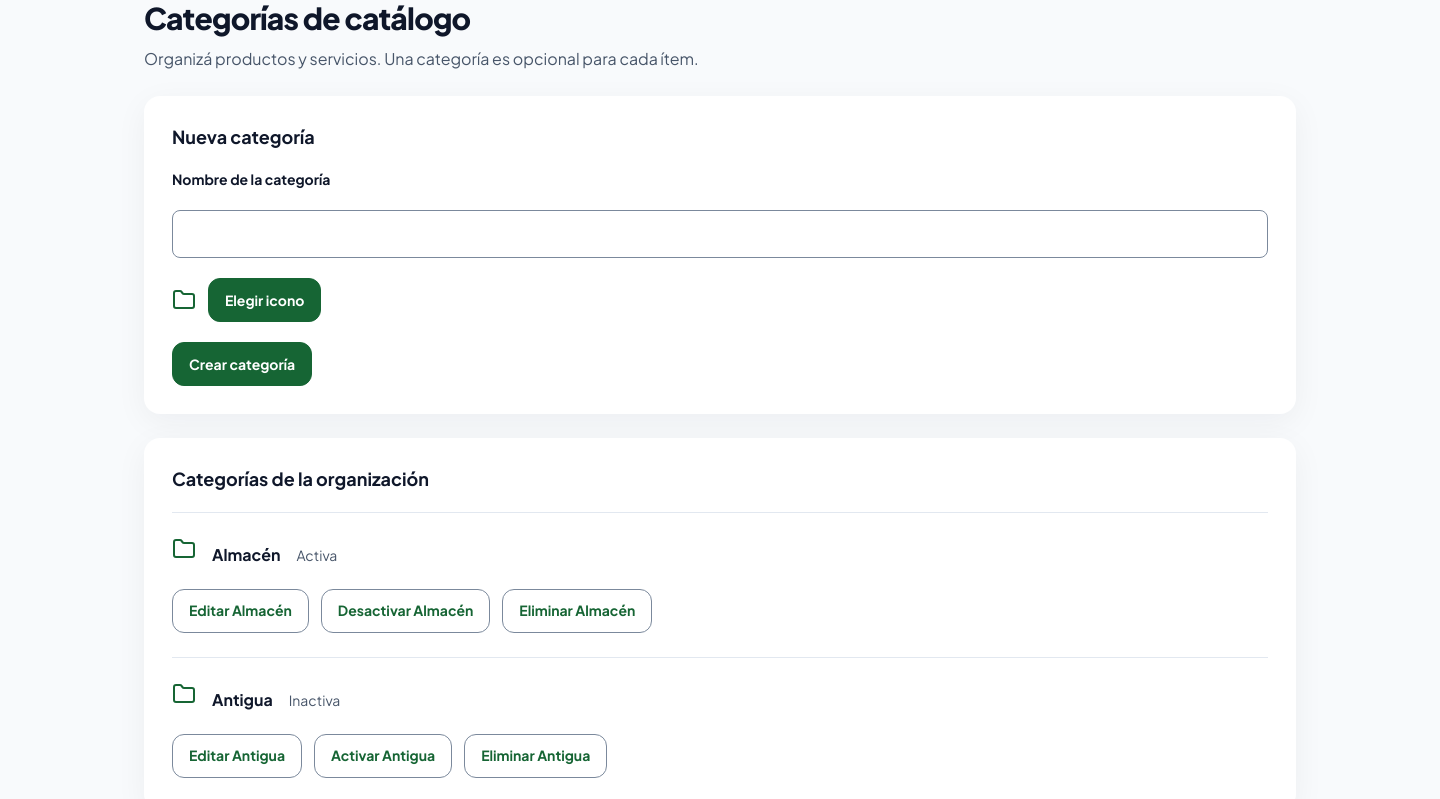
T236I: edits the selected category using its version and reloads after success
Click the button "Editar Almacén".
click(240, 611)  # box [172, 589, 309, 633]
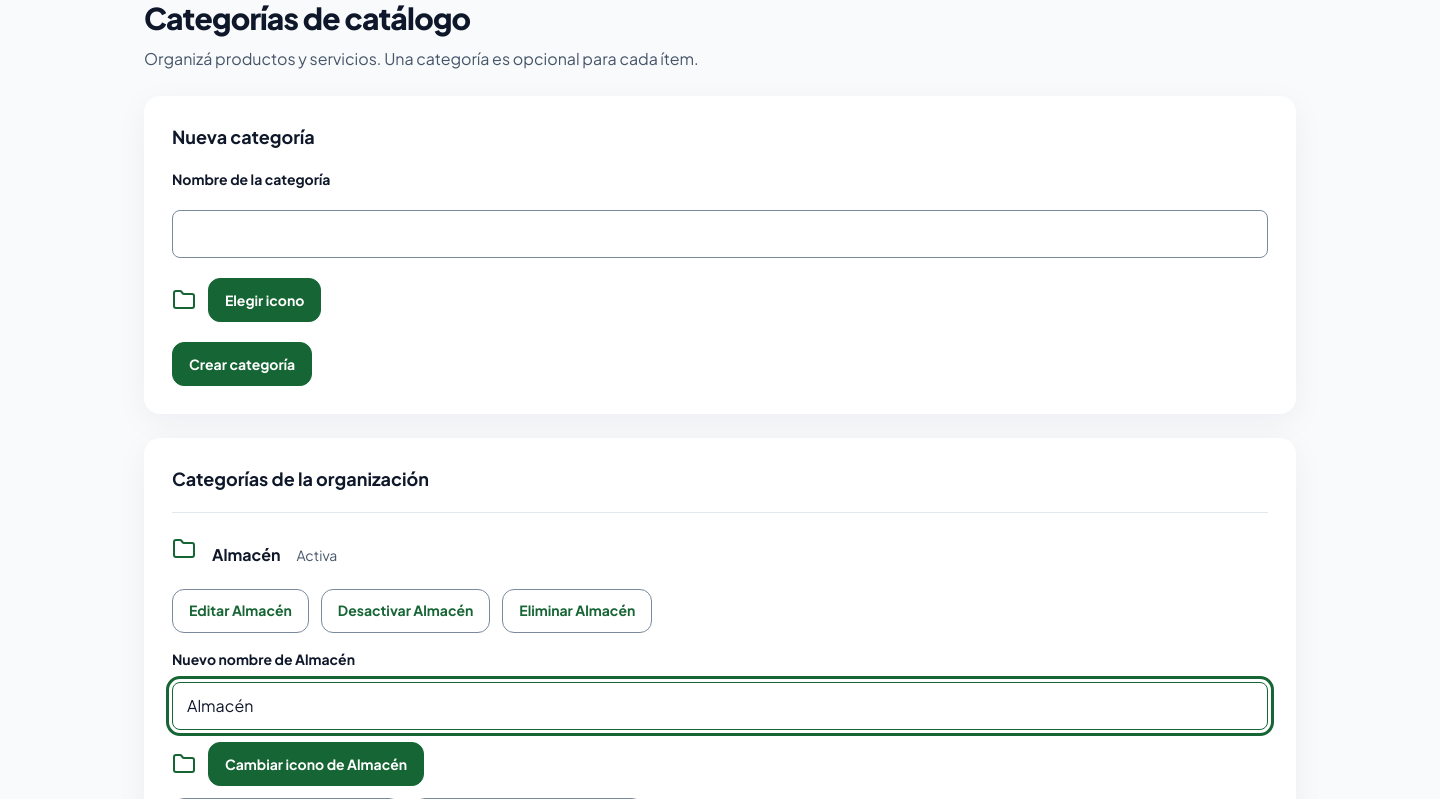
Replace the text in the field labelled "Nuevo nombre de Almacén" with "Bebidas" at x=720, y=706, box [172, 682, 1268, 730]
(page scrolled)
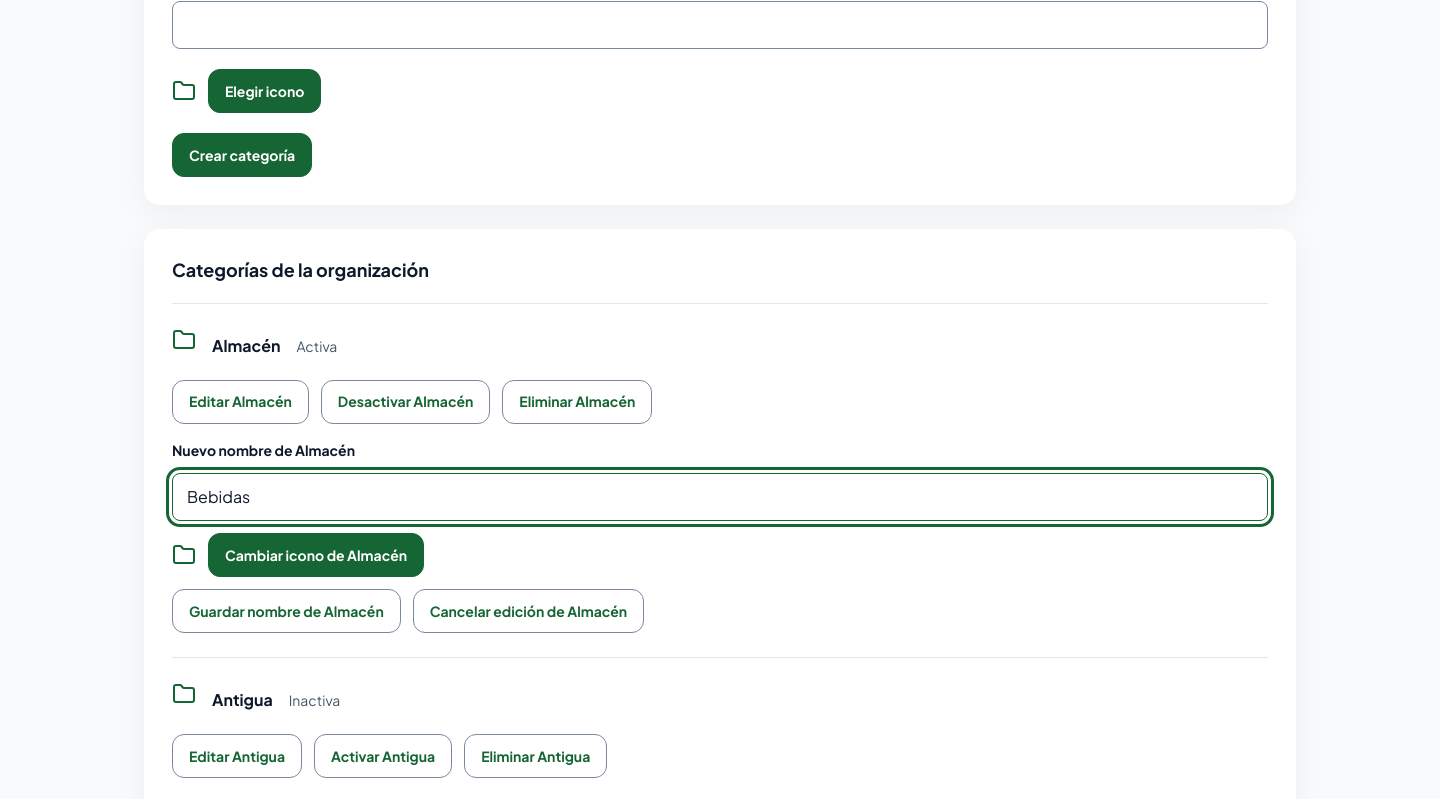
Click the button "Guardar nombre de Almacén".
click(286, 611)  # box [172, 589, 401, 633]
(page scrolled)
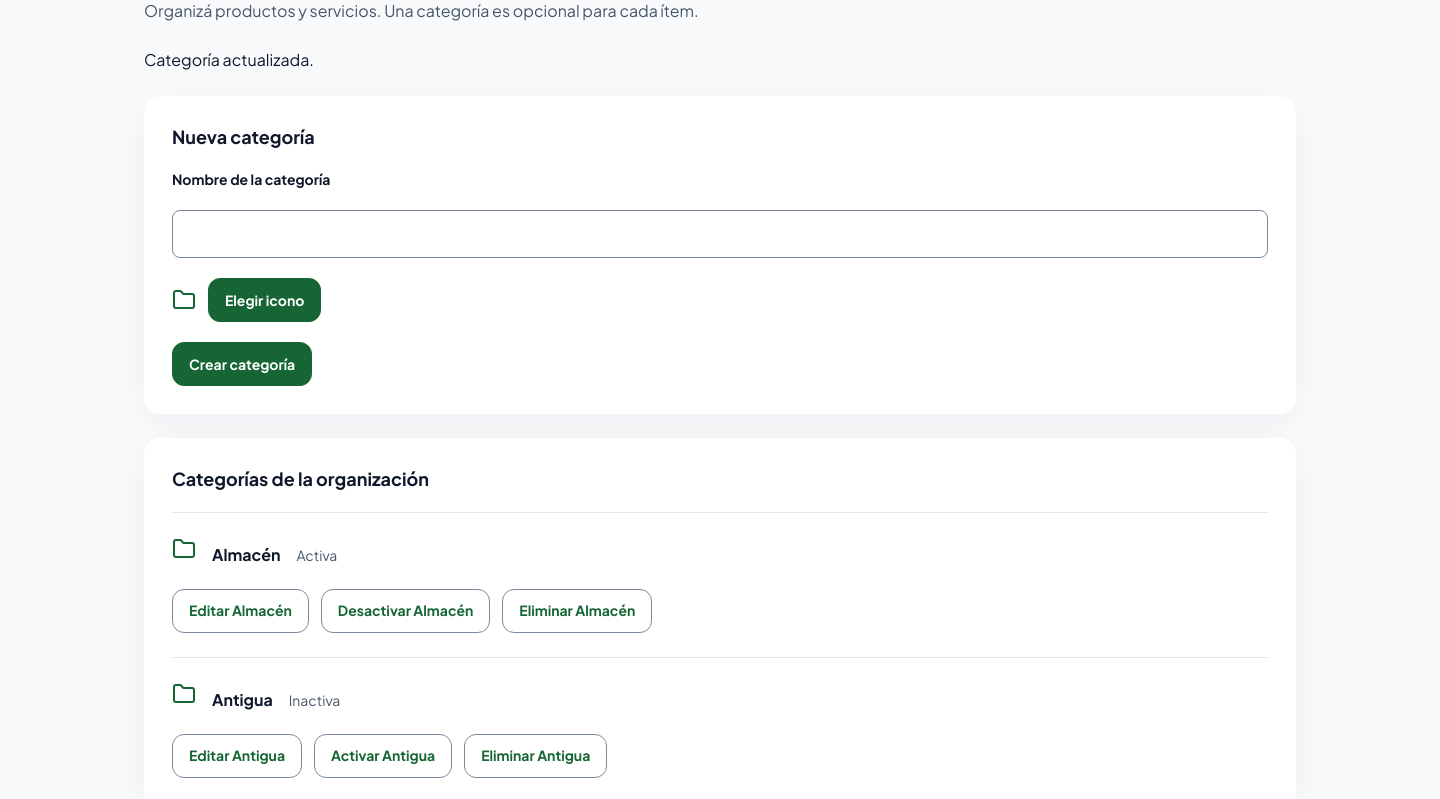
Expected: the message reads "Categoría actualizada.", [144, 49, 314, 70]
